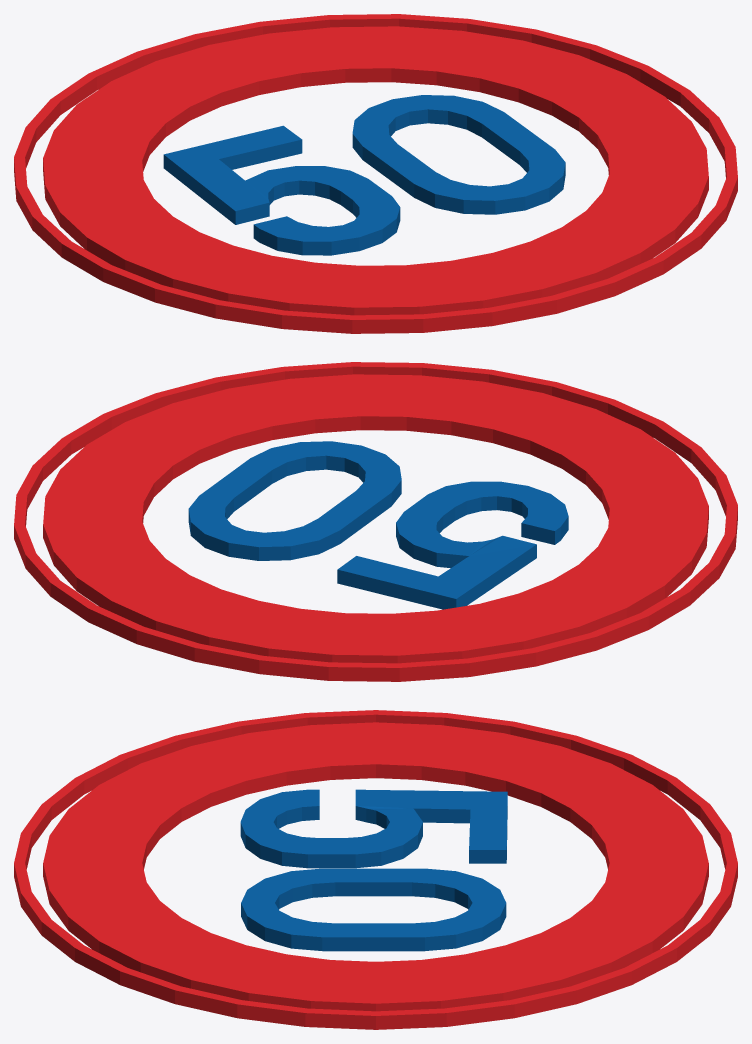
The model's file is Speed50.fbx.
3 renders of one model, top to bottom at view 1: azimuth 30°, elevation 25°; view 2: azimuth 150°, elevation 25°; view 3: azimuth 270°, elevation 25°, orthographic.
Parts seen in each view (by area): view 1: Circle, 50; view 2: Circle, 50; view 3: Circle, 50.
Part boxes in pixels (box(x1,y1,x2,y2)): Circle: box(14, 14, 737, 333); 50: box(163, 95, 565, 255); Circle: box(14, 362, 737, 681); 50: box(188, 441, 568, 609); Circle: box(14, 710, 737, 1029); 50: box(240, 789, 507, 951).
Bounding box in the file's own units: 472 × 10.48 × 472.
